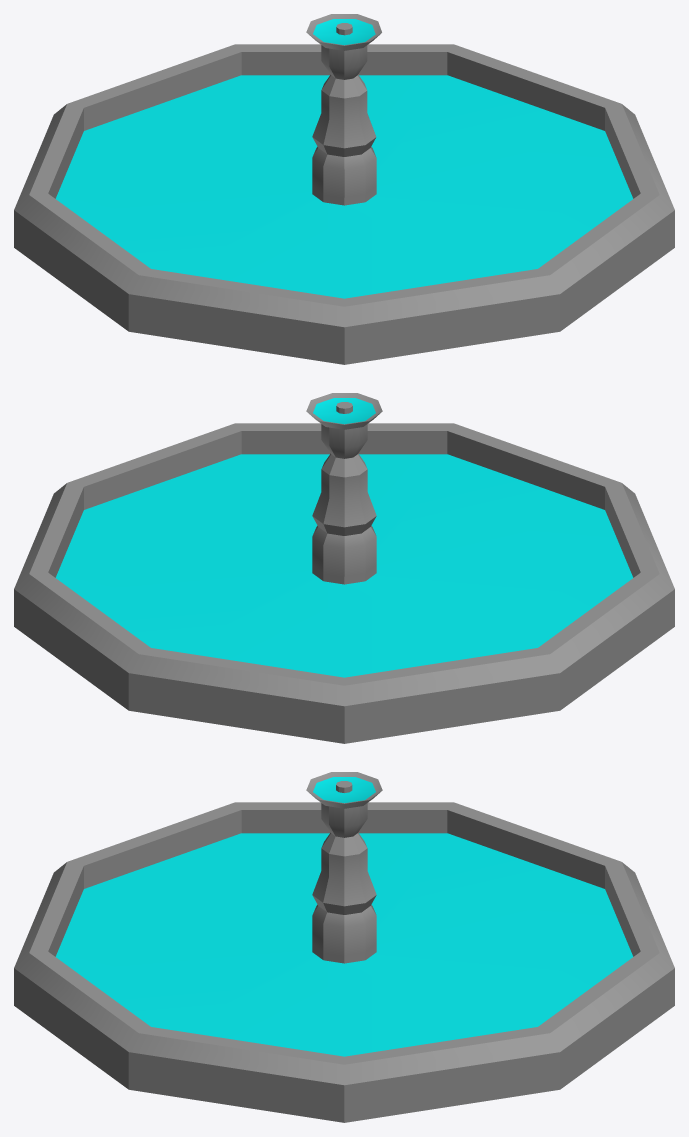
File: MOD_FontaineB.FBX
3 renders of one model, top to bottom at view 1: azimuth 30°, elevation 25°; view 2: azimuth 150°, elevation 25°; view 3: azimuth 270°, elevation 25°, orthographic.
Visible parts, largest first — view 1: Cylinder001; view 2: Cylinder001; view 3: Cylinder001.
Part boxes in pixels (left/top/right/bottom): Cylinder001: left=14, top=14, right=674, bottom=364; Cylinder001: left=14, top=393, right=674, bottom=743; Cylinder001: left=14, top=772, right=674, bottom=1122.
Bounding box in the file's own units: 234 × 77.98 × 237.
